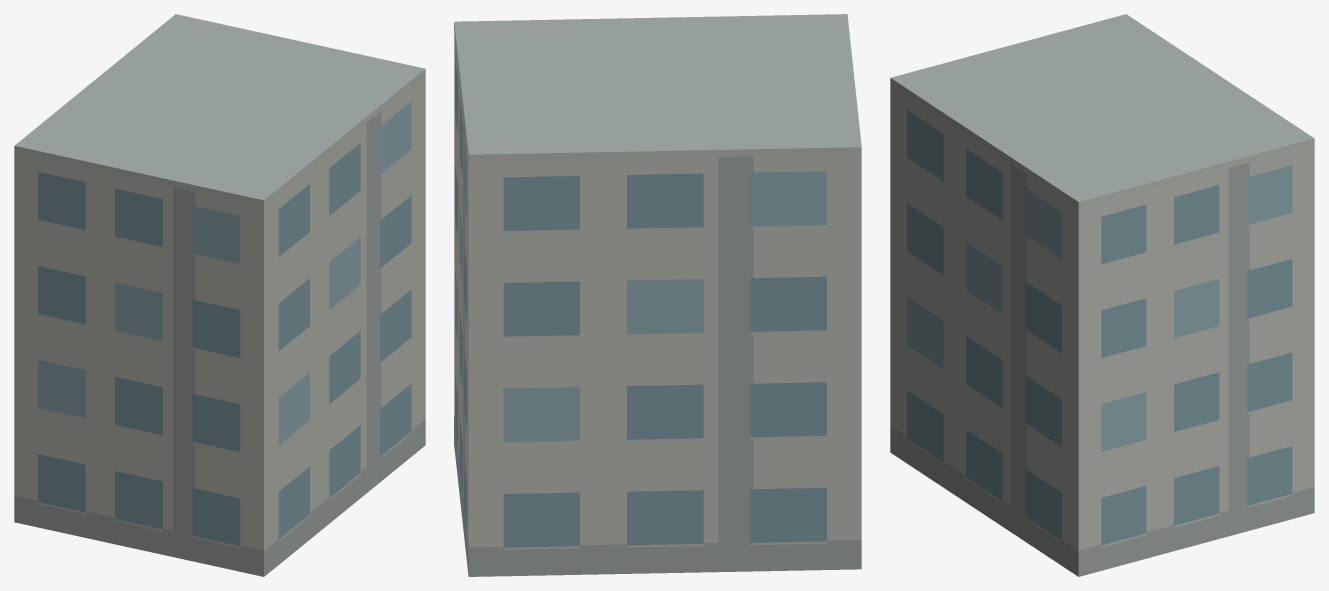
Rendered from residential-3c01c230-4ab0-4cae-80c3-56833bd91f46.glb.
3 views of the same model, side by side, from view 1: azimuth 30°, elevation 25°; view 2: azimuth 150°, elevation 25°; view 3: azimuth 270°, elevation 25° (orthographic). The views are drawn at different scales.
Visible parts, largest first — view 1: residential-3c01c230-4ab0-4cae-80c3-56833bd91f46.tmp; view 2: residential-3c01c230-4ab0-4cae-80c3-56833bd91f46.tmp; view 3: residential-3c01c230-4ab0-4cae-80c3-56833bd91f46.tmp.
Boxes of the visible parts, bbox=[...] form: residential-3c01c230-4ab0-4cae-80c3-56833bd91f46.tmp: bbox=[14, 14, 425, 576]; residential-3c01c230-4ab0-4cae-80c3-56833bd91f46.tmp: bbox=[454, 14, 861, 576]; residential-3c01c230-4ab0-4cae-80c3-56833bd91f46.tmp: bbox=[890, 14, 1314, 576].
Size of the model in its own units: 15.46 by 14.35 by 14.73.
